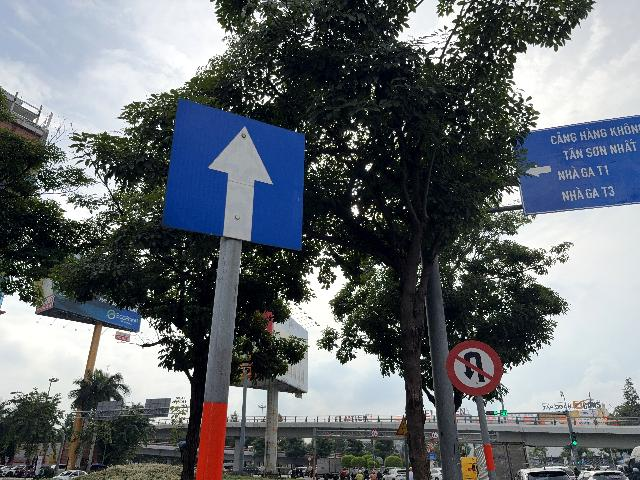cam-quay-dau-xe: (446, 340, 502, 397)
duong-mot-chieu: (161, 98, 305, 251)
